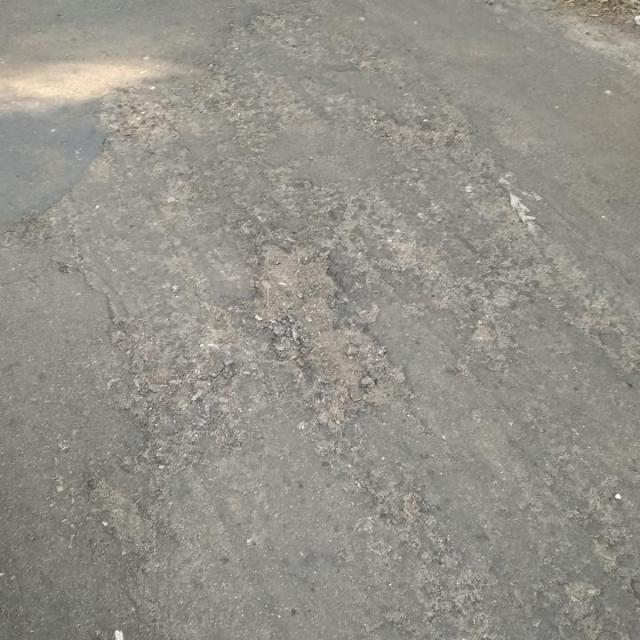Pothole: (253, 244, 414, 417)
